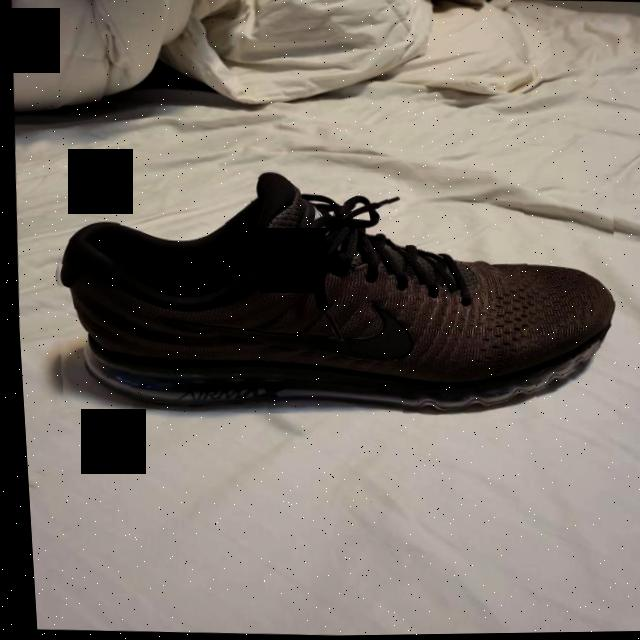shoe: (37, 155, 621, 429)
